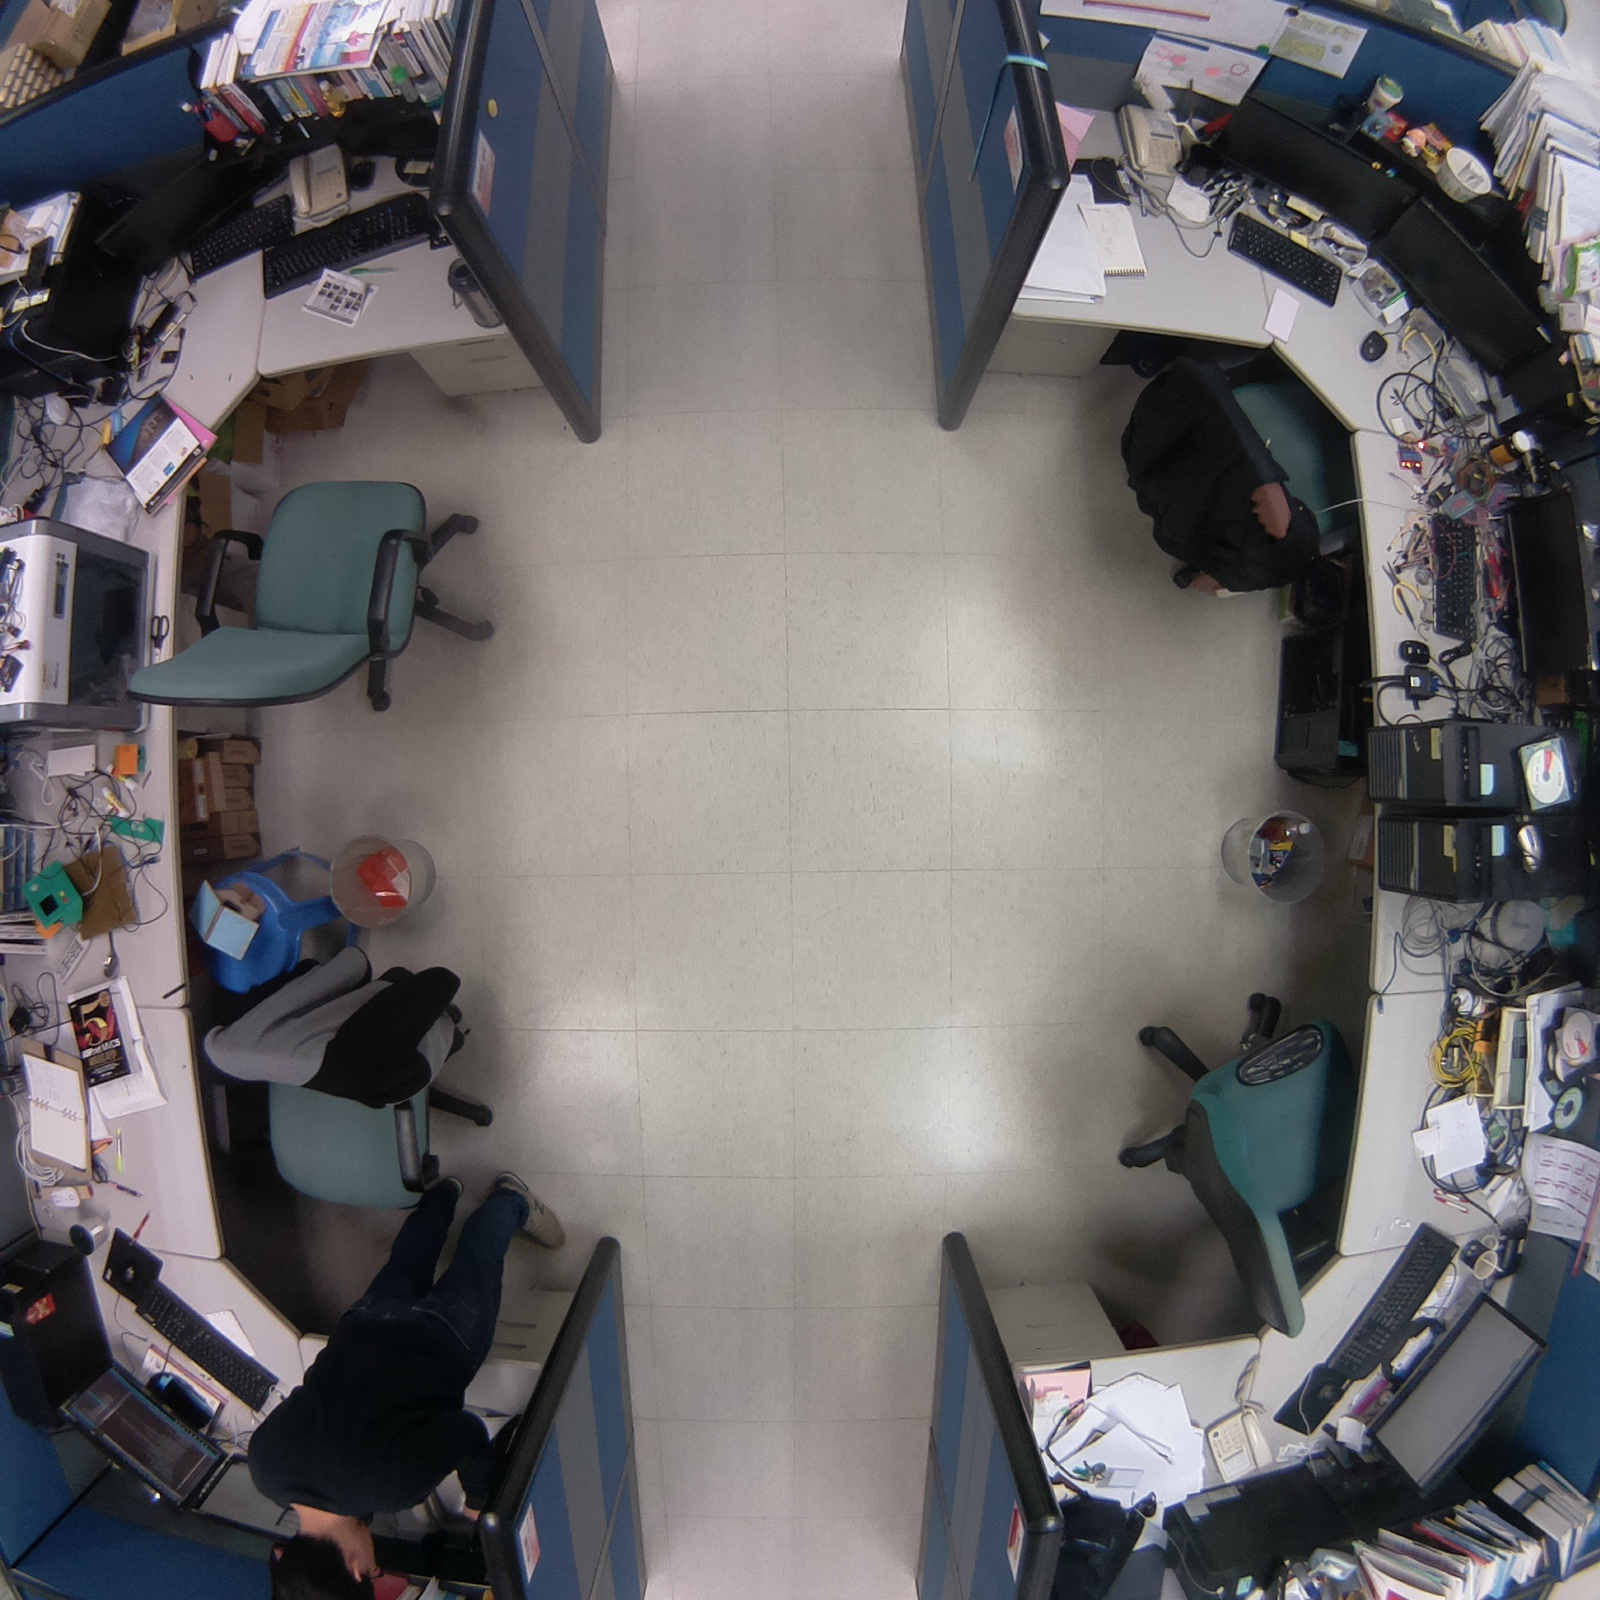chair: (99, 442, 522, 732), (1081, 968, 1368, 1358), (173, 911, 514, 1237), (1099, 306, 1383, 622)
head: (272, 1510, 388, 1600)
standing: (229, 1155, 575, 1600)
